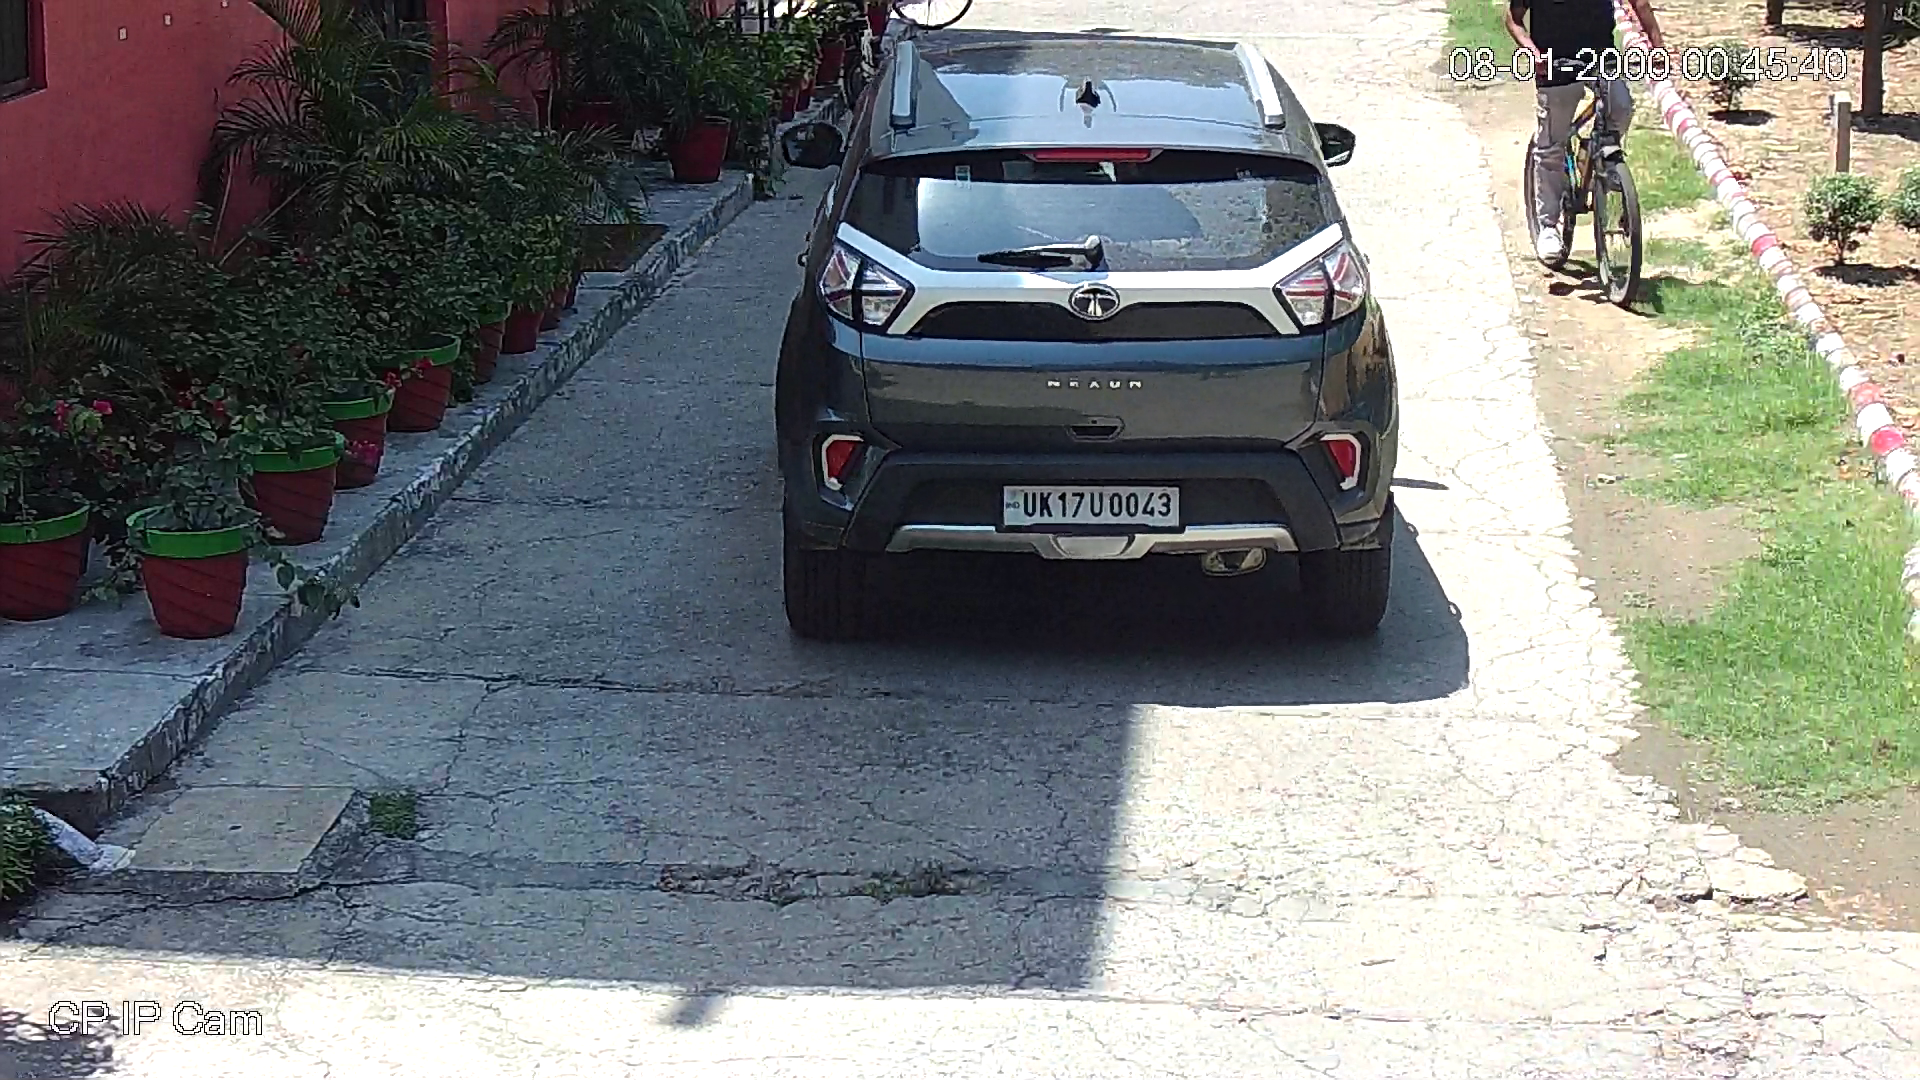plate: (993, 477, 1184, 535)
